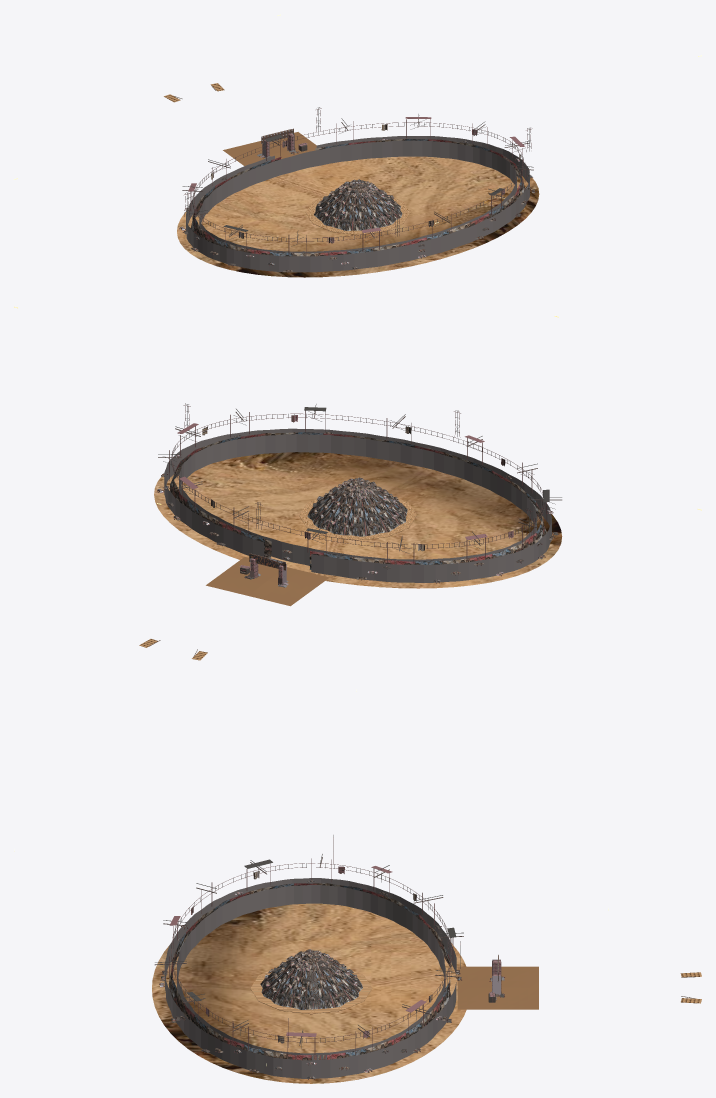
Rendered from dome.glb.
3 renders of one model, top to bottom at view 1: azimuth 30°, elevation 25°; view 2: azimuth 150°, elevation 25°; view 3: azimuth 270°, elevation 25°, orthographic. The views are drawn at different scales.
Parts seen in each view (by area): view 1: dome-outer:fixed-salvage, dome-gate:fixed-salvage; view 2: dome-outer:fixed-salvage, dome-gate:fixed-salvage; view 3: dome-outer:fixed-salvage, dome-gate:fixed-salvage.
Boxes of the visible parts, x1,y1,x2,y2 form: dome-outer:fixed-salvage: (177,107,539,277); dome-gate:fixed-salvage: (164,83,316,165); dome-outer:fixed-salvage: (154,403,562,588); dome-gate:fixed-salvage: (139,553,329,660); dome-outer:fixed-salvage: (152,835,466,1083); dome-gate:fixed-salvage: (457,954,701,1009).
Size of the model in its own units: 430 by 62.42 by 339.
Materials: 22 (21 with a texture image).
